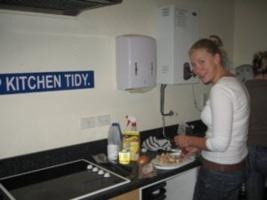person without safety: (173, 32, 252, 200)
